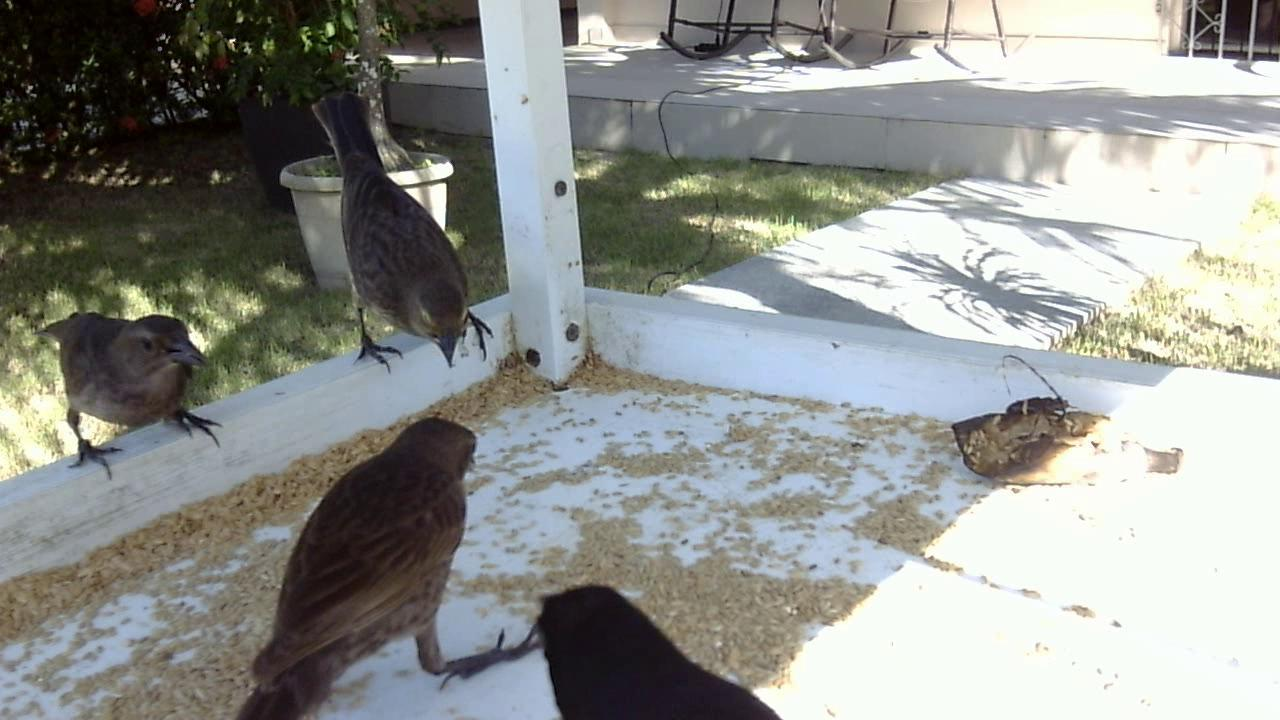chupim: (217, 406, 523, 720), (305, 96, 506, 384), (490, 573, 799, 718), (26, 304, 228, 488)
